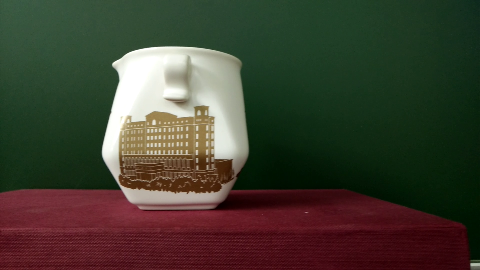law: (122, 120, 223, 190)
